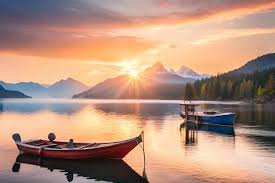boat: (13, 130, 145, 160), (178, 101, 236, 127)
